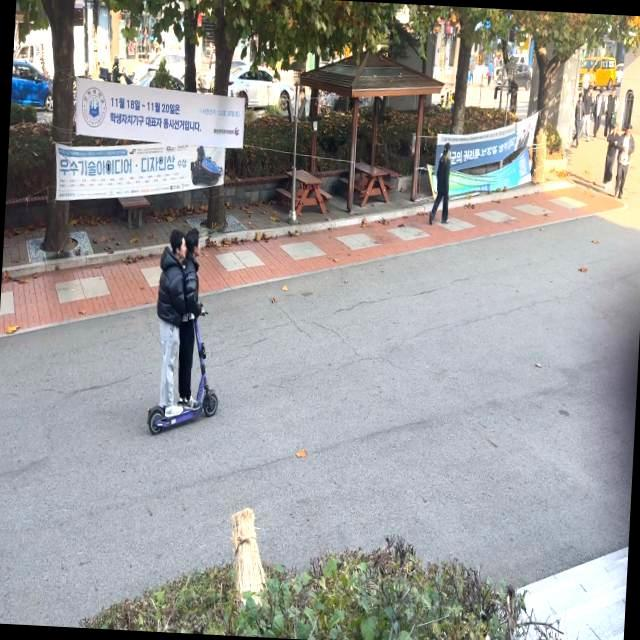bare_head: (166, 229, 191, 261), (188, 226, 204, 259)
human: (176, 227, 207, 410), (159, 233, 189, 418)
kickboard: (142, 384, 224, 435)
